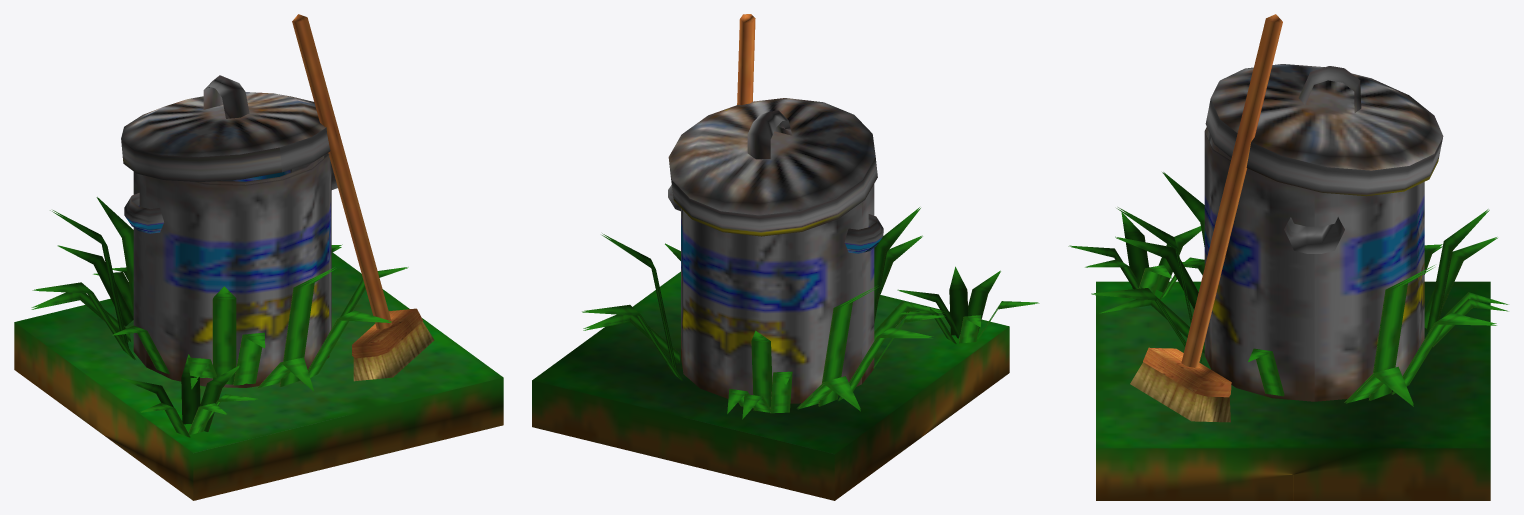
Rendered from slime3.ico.obj.
3 renders of one model, left to right at view 1: azimuth 30°, elevation 25°; view 2: azimuth 150°, elevation 25°; view 3: azimuth 270°, elevation 25°, orthographic. The views are drawn at different scales.
Size of the model in its own units: 4.77 by 4.94 by 4.7.
1 material, 1 textured.
